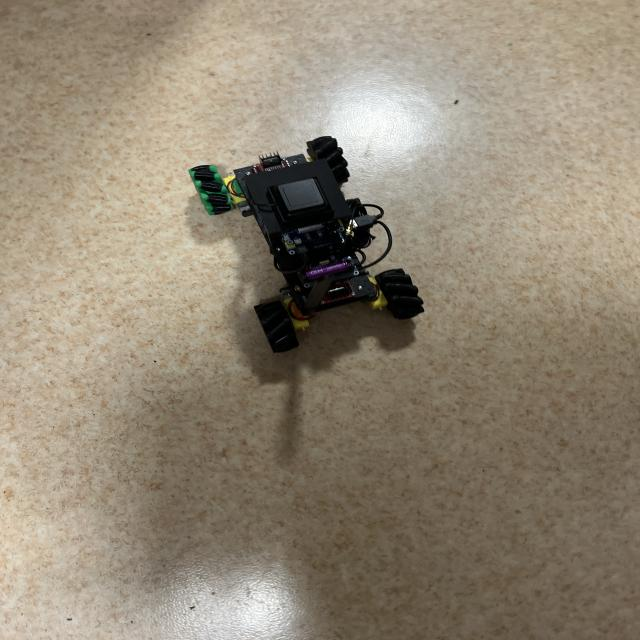robot: (189, 136, 424, 352)
